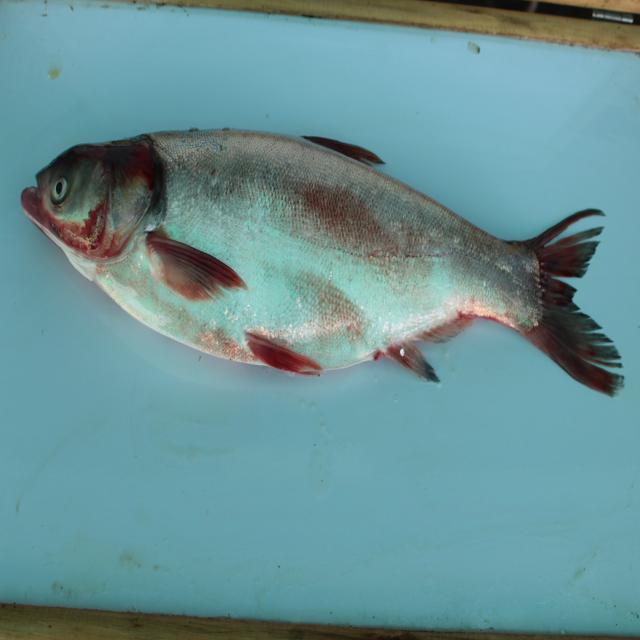SilverCarp: (32, 112, 627, 417)
